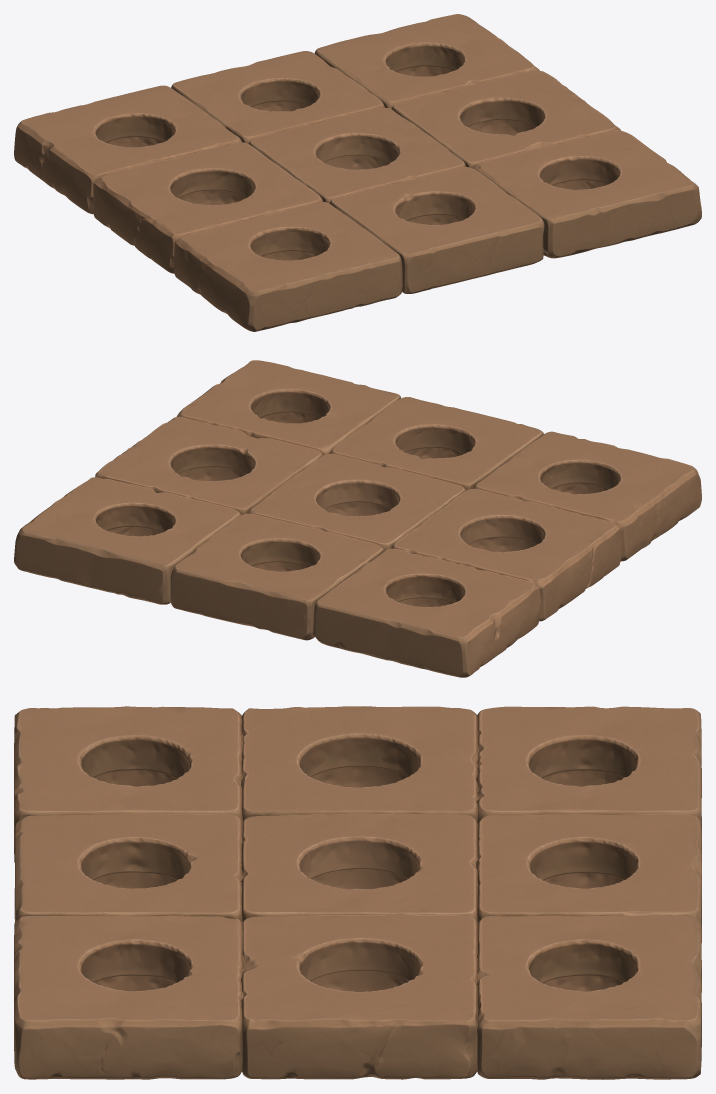
File: spike_tile_high.glb
3 views of the same model, one above another, from view 1: azimuth 30°, elevation 25°; view 2: azimuth 150°, elevation 25°; view 3: azimuth 270°, elevation 25° (orthographic). The views are drawn at different scales.
Size of the model in its own units: 1.9 by 0.1667 by 1.72.
1 material, 1 textured.
